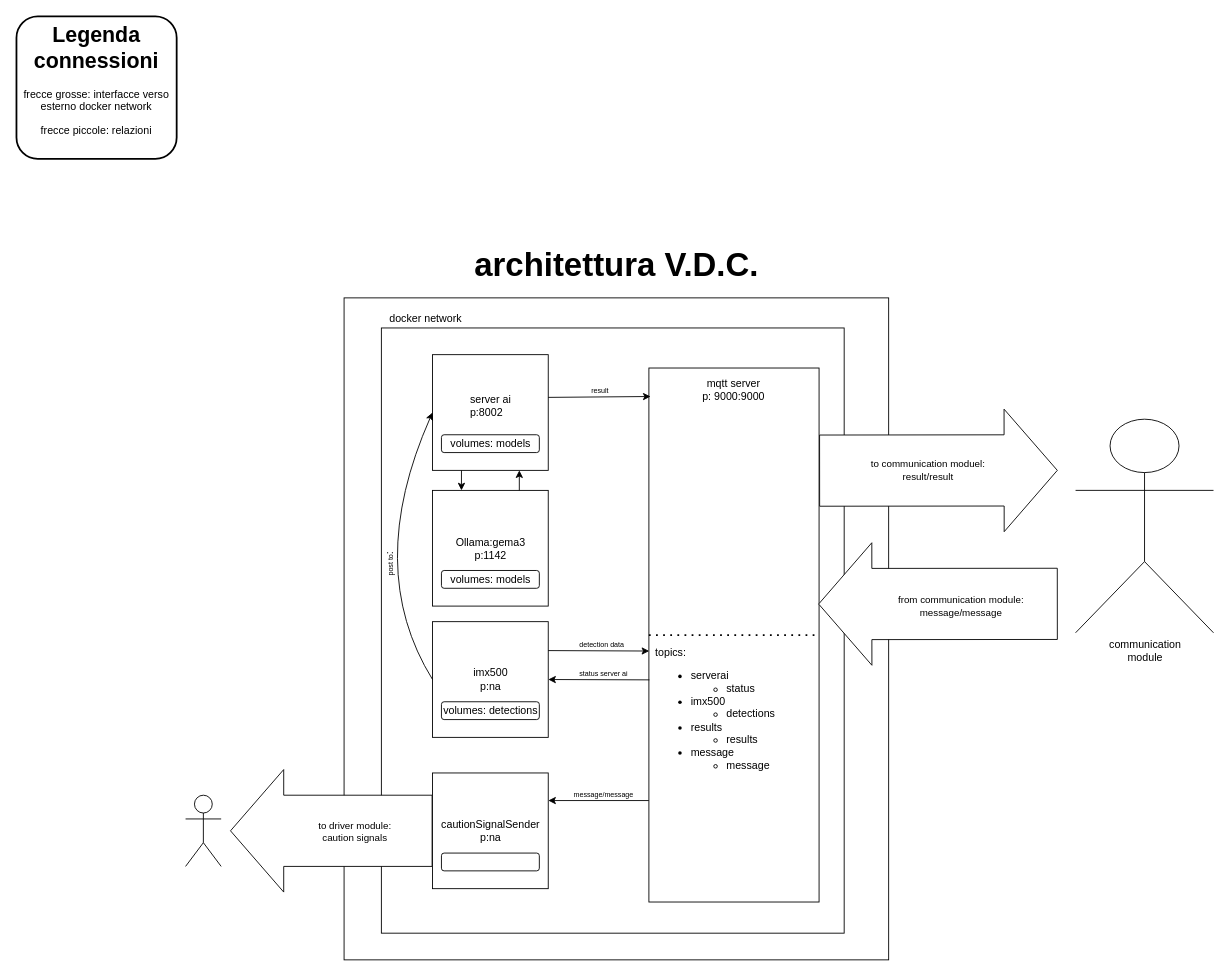
Some shapes in this 1229 by 975 pixel diagram are drawn without their labels. Here are the shapes that lost their labels. From the top down, the centre of each, then its label:
At point 203,830: "driver".
At point 490,861: "volumes: signalslog".
